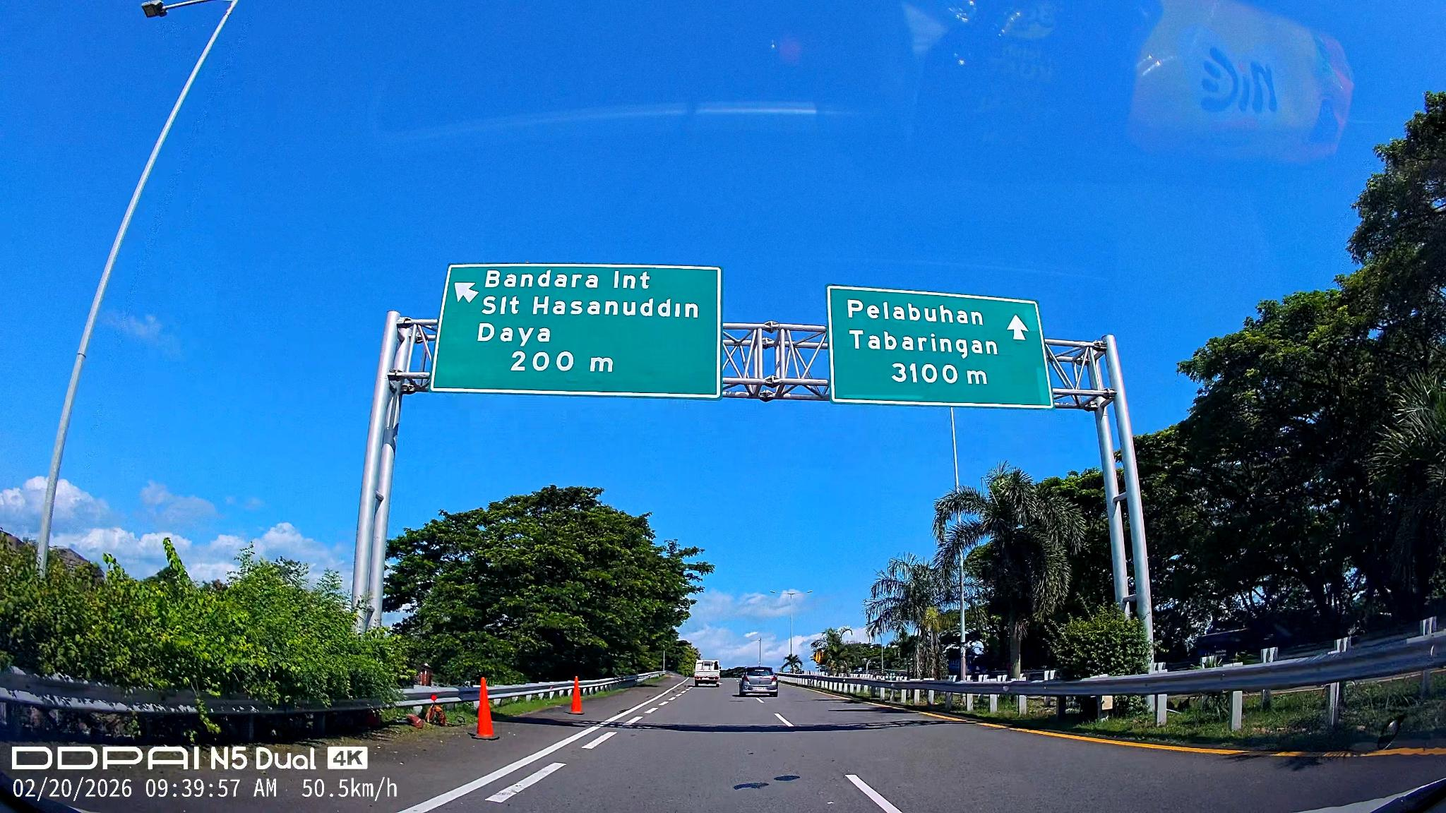rambu_teks: (435, 263, 723, 401), (827, 283, 1054, 408)
